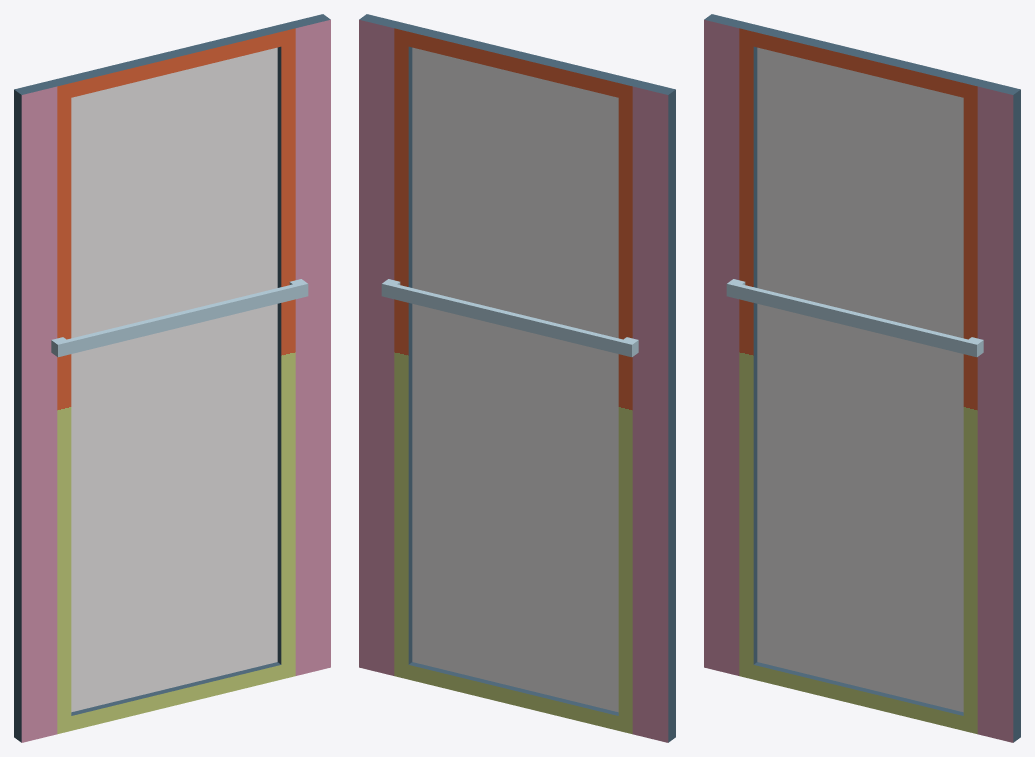
File: door.fbx
3 renders of one model, left to right at view 1: azimuth 30°, elevation 25°; view 2: azimuth 150°, elevation 25°; view 3: azimuth 330°, elevation 25°, orthographic.
Visible parts, largest first — view 1: Cube; view 2: Cube; view 3: Cube.
Boxes of the visible parts, <box> form: Cube: <box>14,14,330,742</box>; Cube: <box>359,14,675,742</box>; Cube: <box>704,14,1020,742</box>.
Bounding box in the file's own units: 288 × 576 × 33.98.
